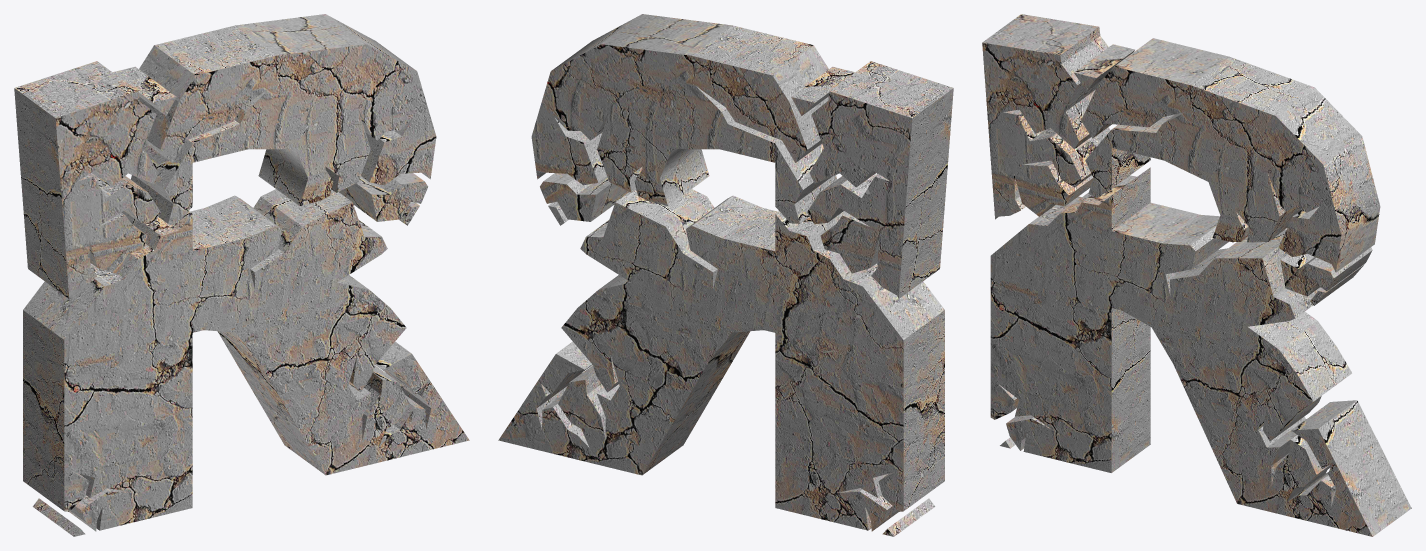
The picture shows the model from 3 angles, left to right: view 1: azimuth 30°, elevation 25°; view 2: azimuth 150°, elevation 25°; view 3: azimuth 330°, elevation 25°; orthographic projection. The views are drawn at different scales.
Visible parts, largest first — view 1: R; view 2: R; view 3: R.
Boxes of the visible parts, x1,y1,x2,y2 form: R: (14,14,469,536); R: (498,14,953,536); R: (982,14,1411,536).
Bounding box in the file's own units: 86.67 × 86.36 × 15.
Materials: 1 (1 with a texture image).
